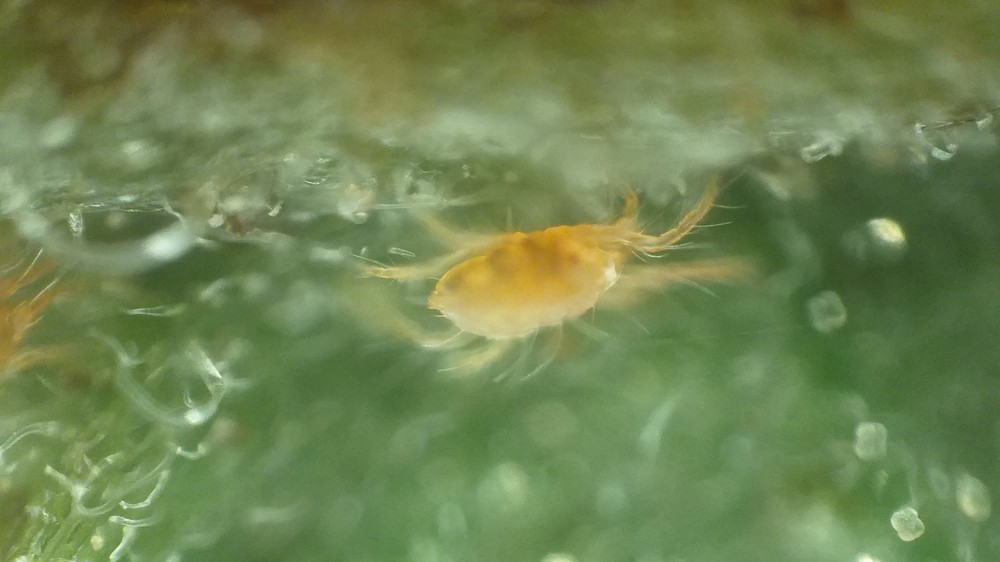Aracnido Rojo: (348, 162, 793, 402)
